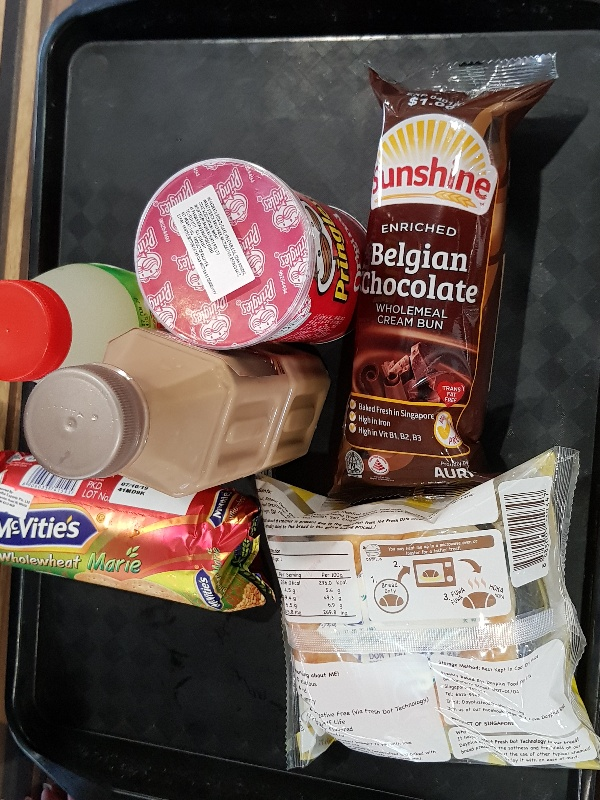Dayplus Banana: (253, 444, 600, 772)
Fruit Tree Yuzu Mixed Juice Drink: (1, 259, 161, 382)
McVitie's Wholewheat Marie: (1, 449, 277, 612)
Mocha: (23, 326, 333, 497)
Pringles Original: (134, 155, 368, 349)
Sunshine Belgium Chocolate Wholemeal Cream Bun: (327, 52, 557, 485)
